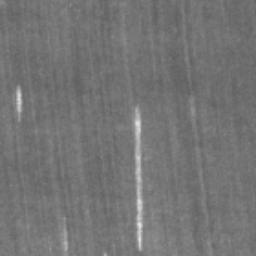Bright scratch: (134, 109, 144, 250), (17, 86, 23, 117)
